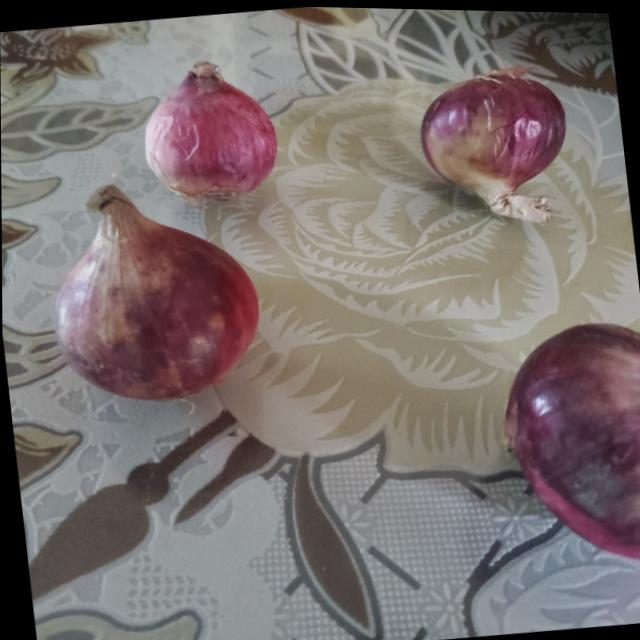onion: (40, 177, 265, 410), (499, 315, 640, 571), (412, 58, 579, 230), (135, 53, 280, 206)
